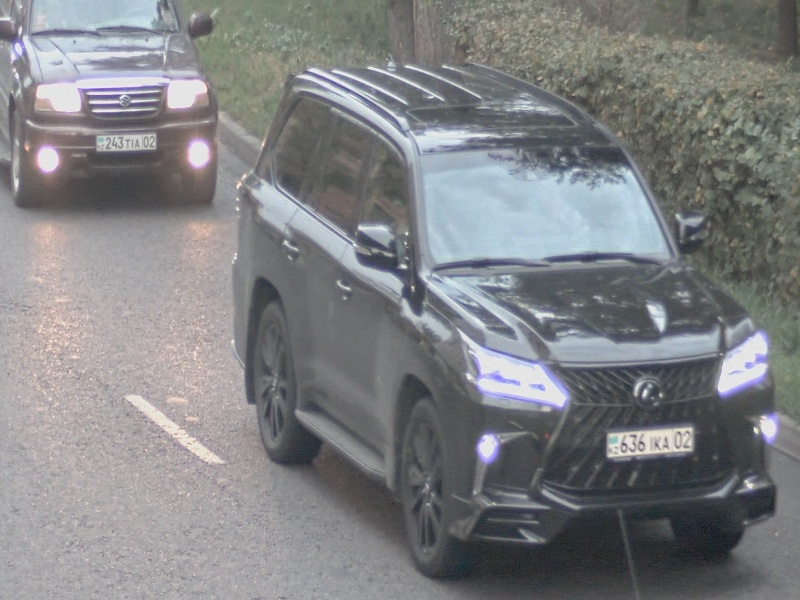plate: (605, 424, 696, 462), (96, 131, 158, 154)
